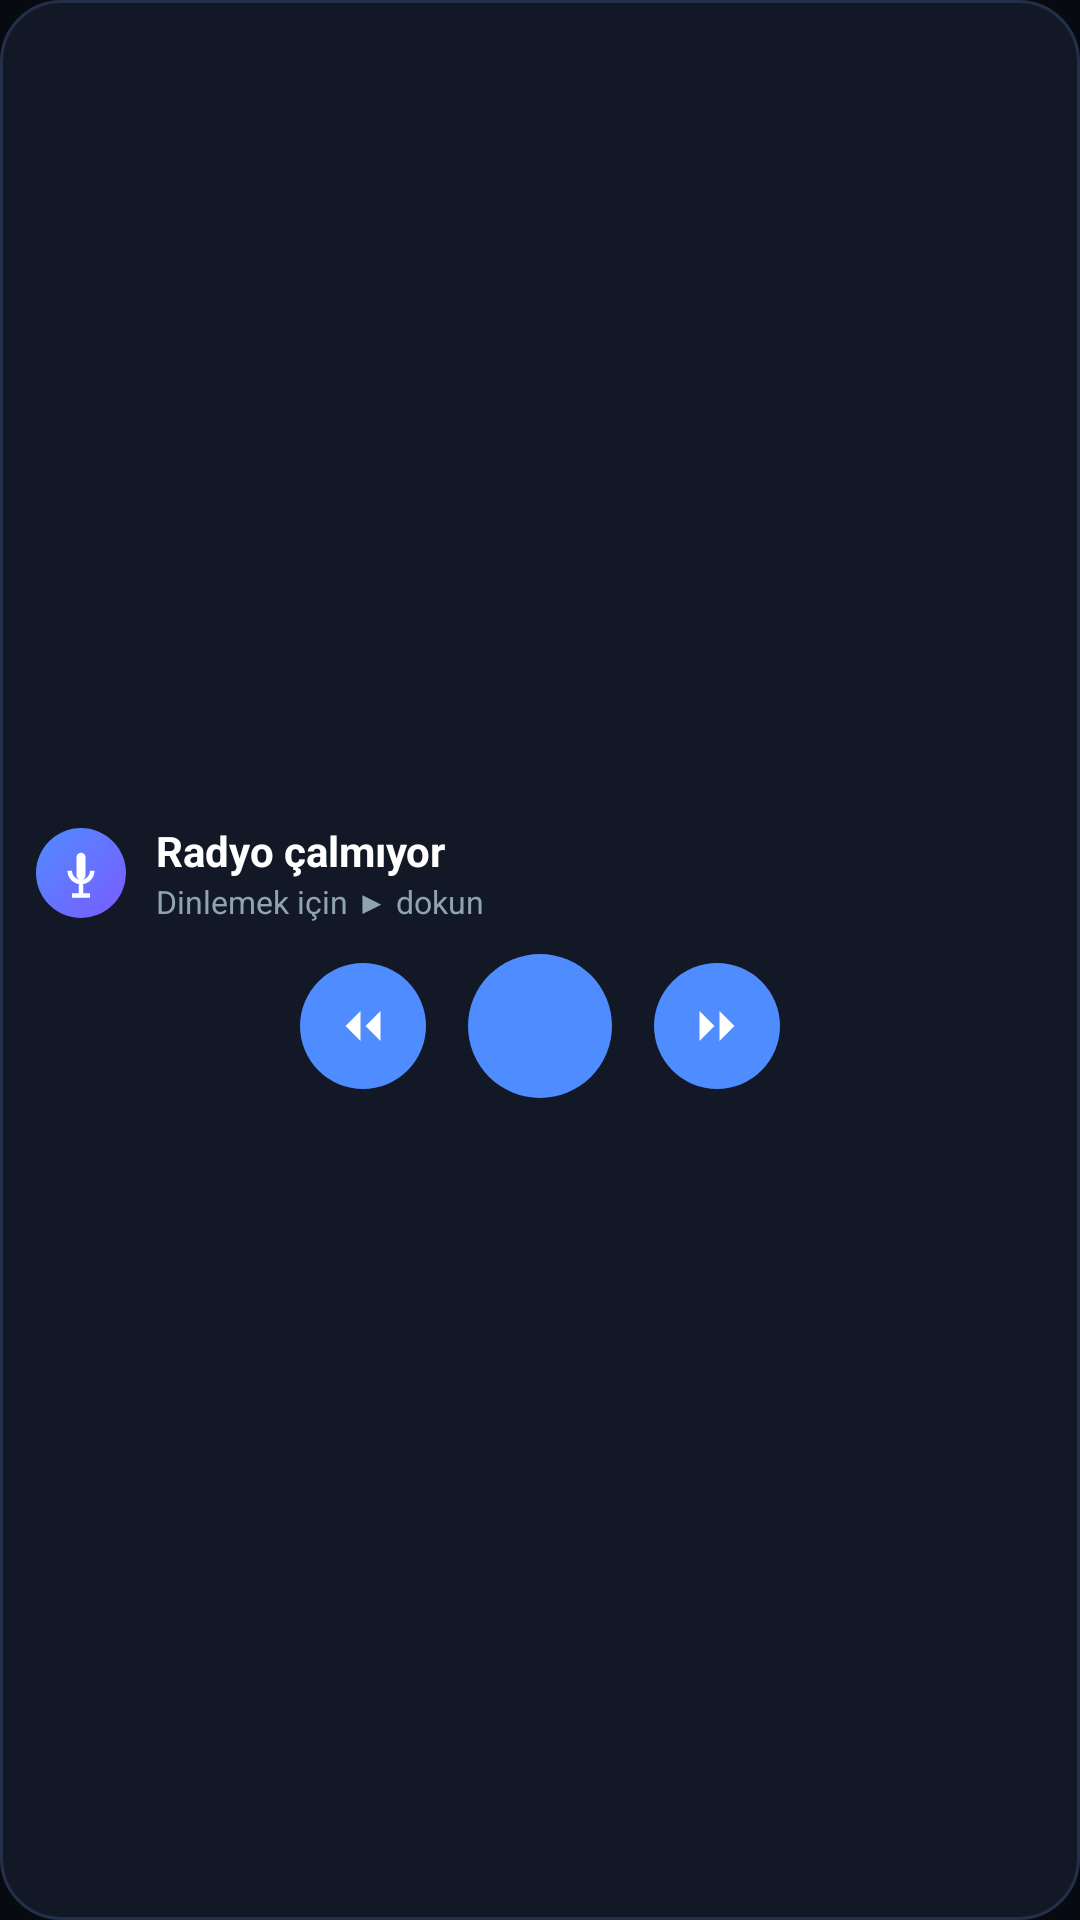

Named icons in this screenshot (1080*1920) and their bounding boxes, (x1, y1, x2, y2):
brand mic: (67, 852, 95, 898)
Sonraki radyo: (654, 963, 780, 1089)
Önceki radyo: (300, 963, 426, 1089)
